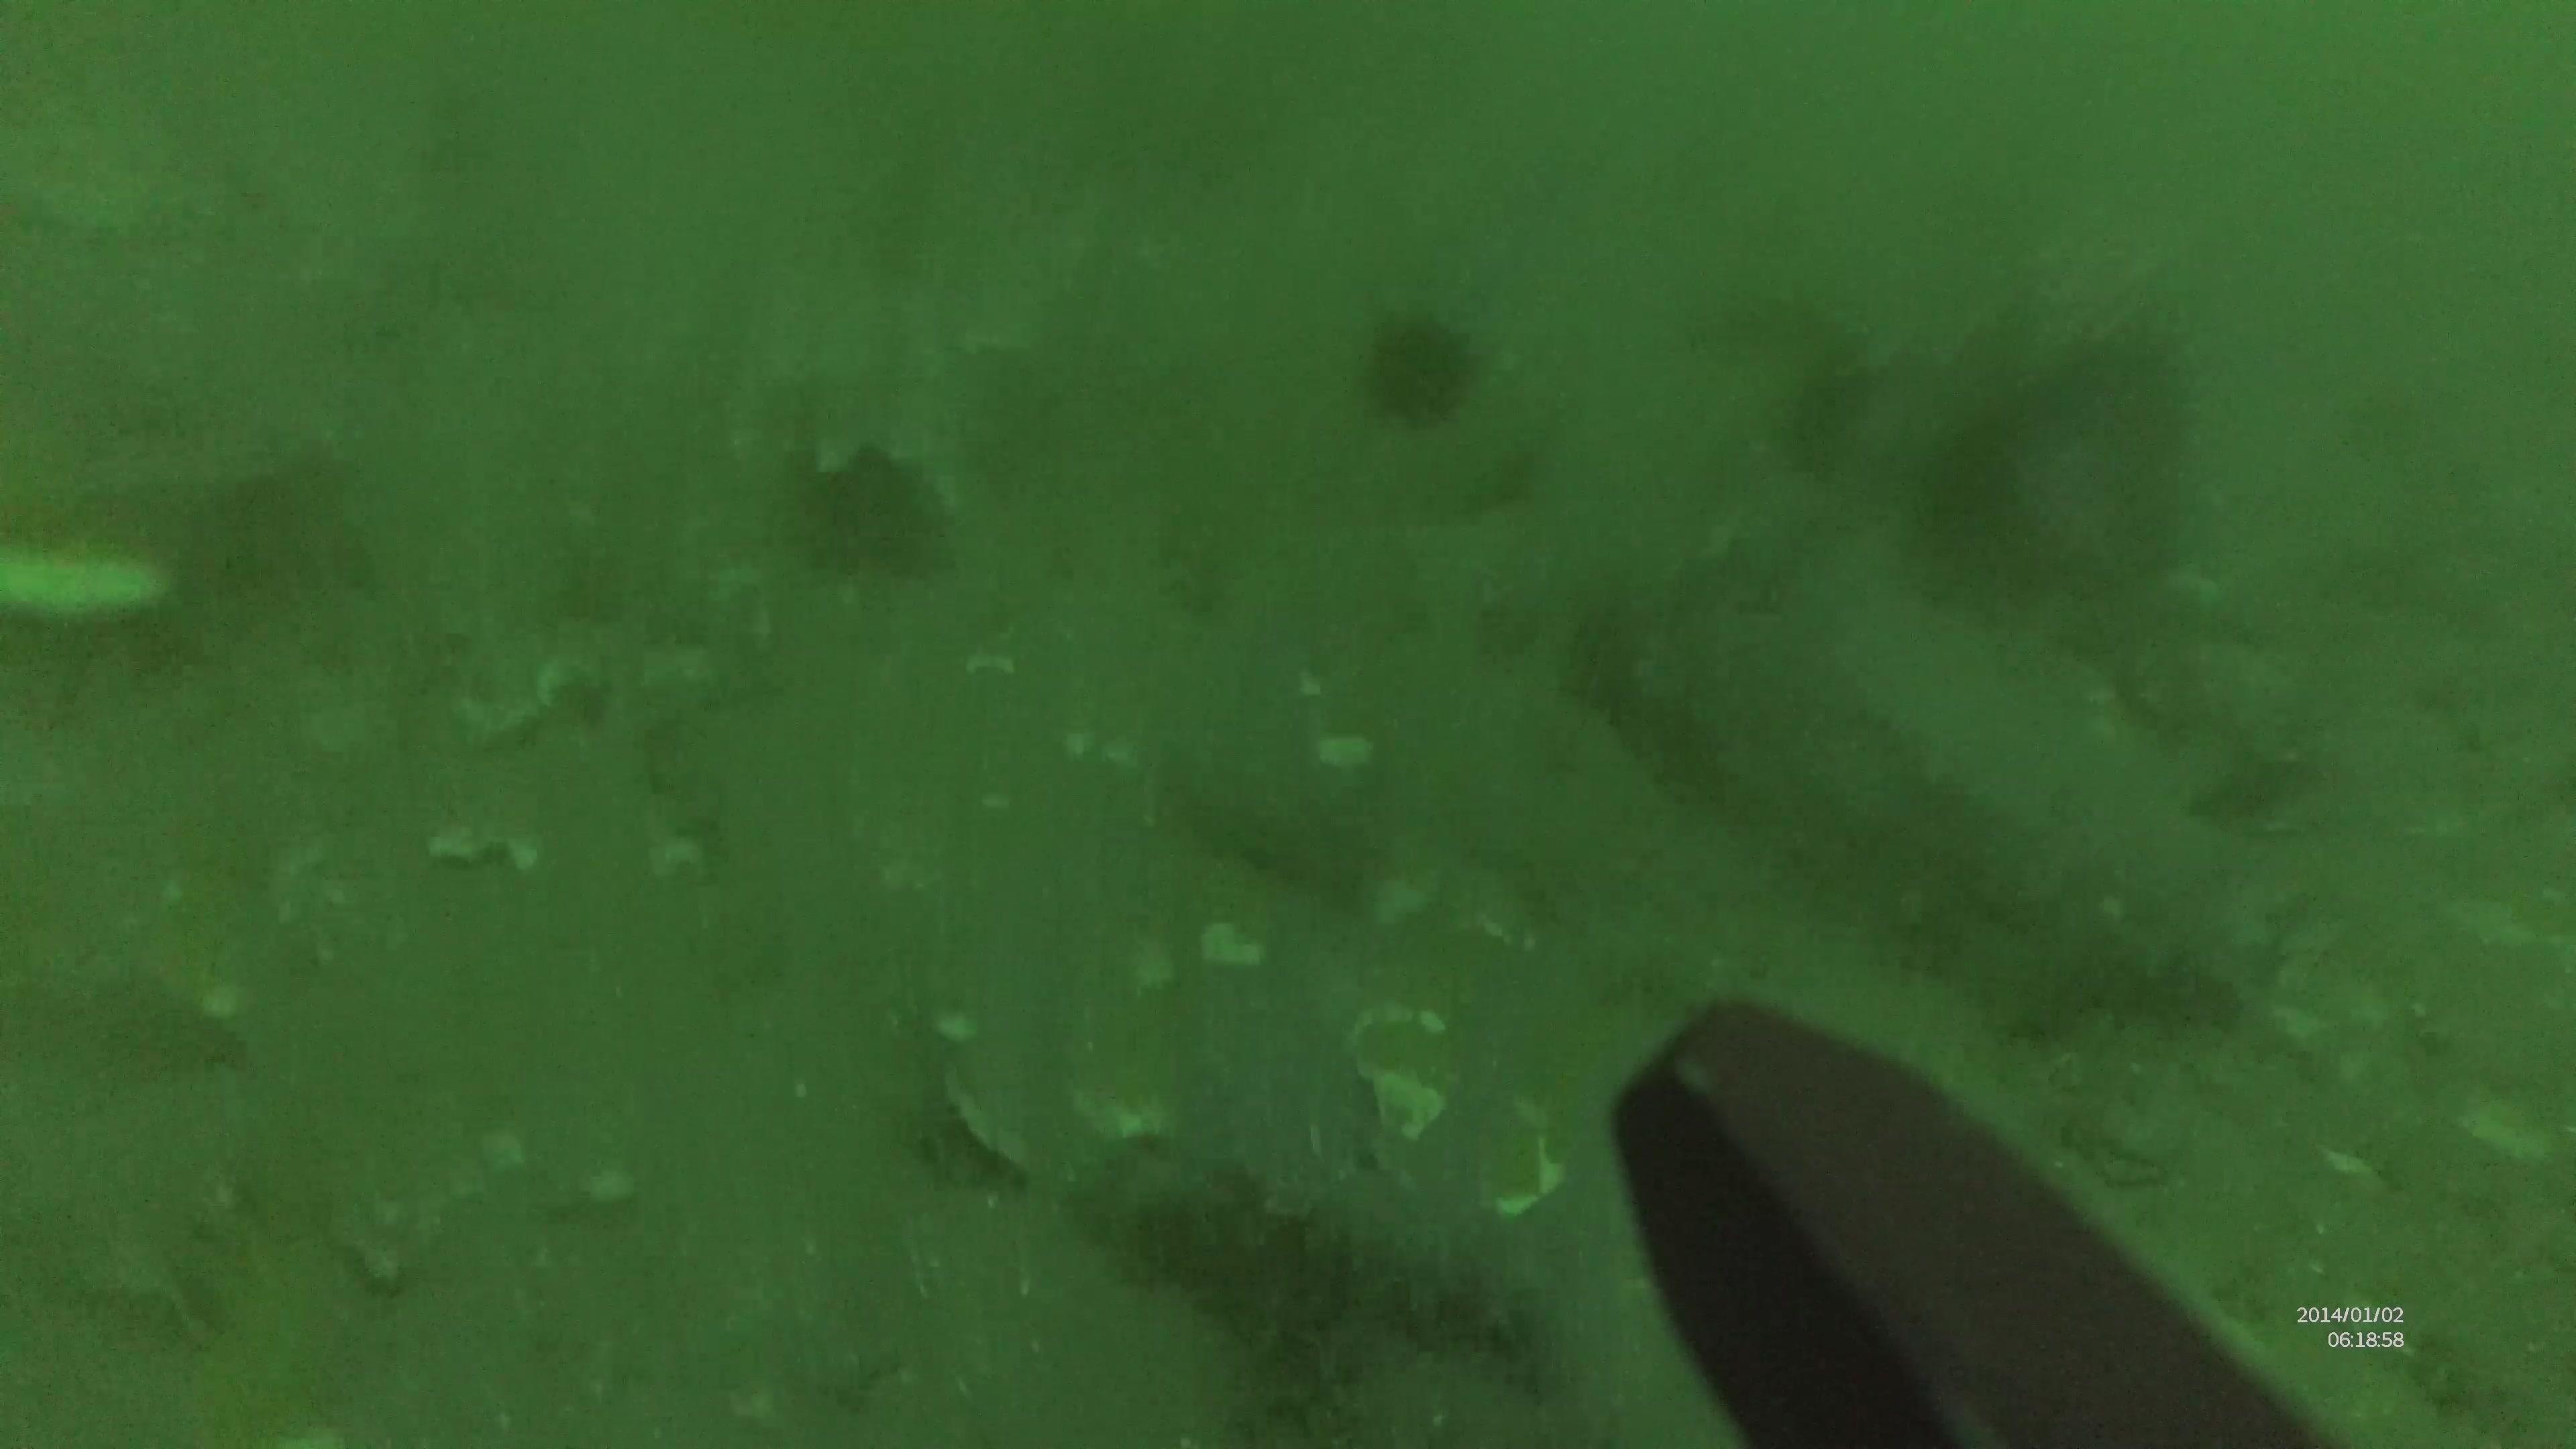echinus: (1348, 315, 1491, 433)
